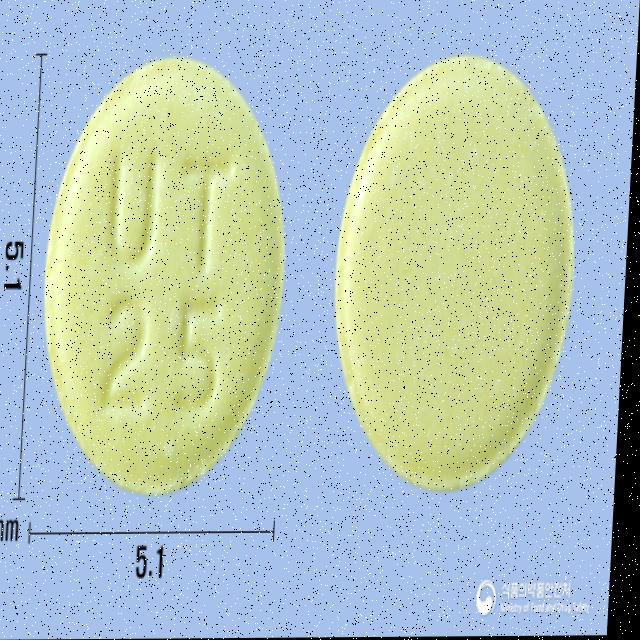Azaprine -25mg: (35, 52, 302, 502)
